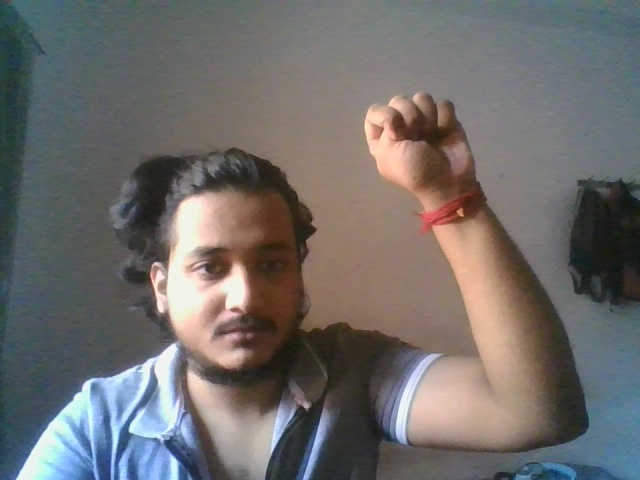Close: (364, 92, 478, 189)
